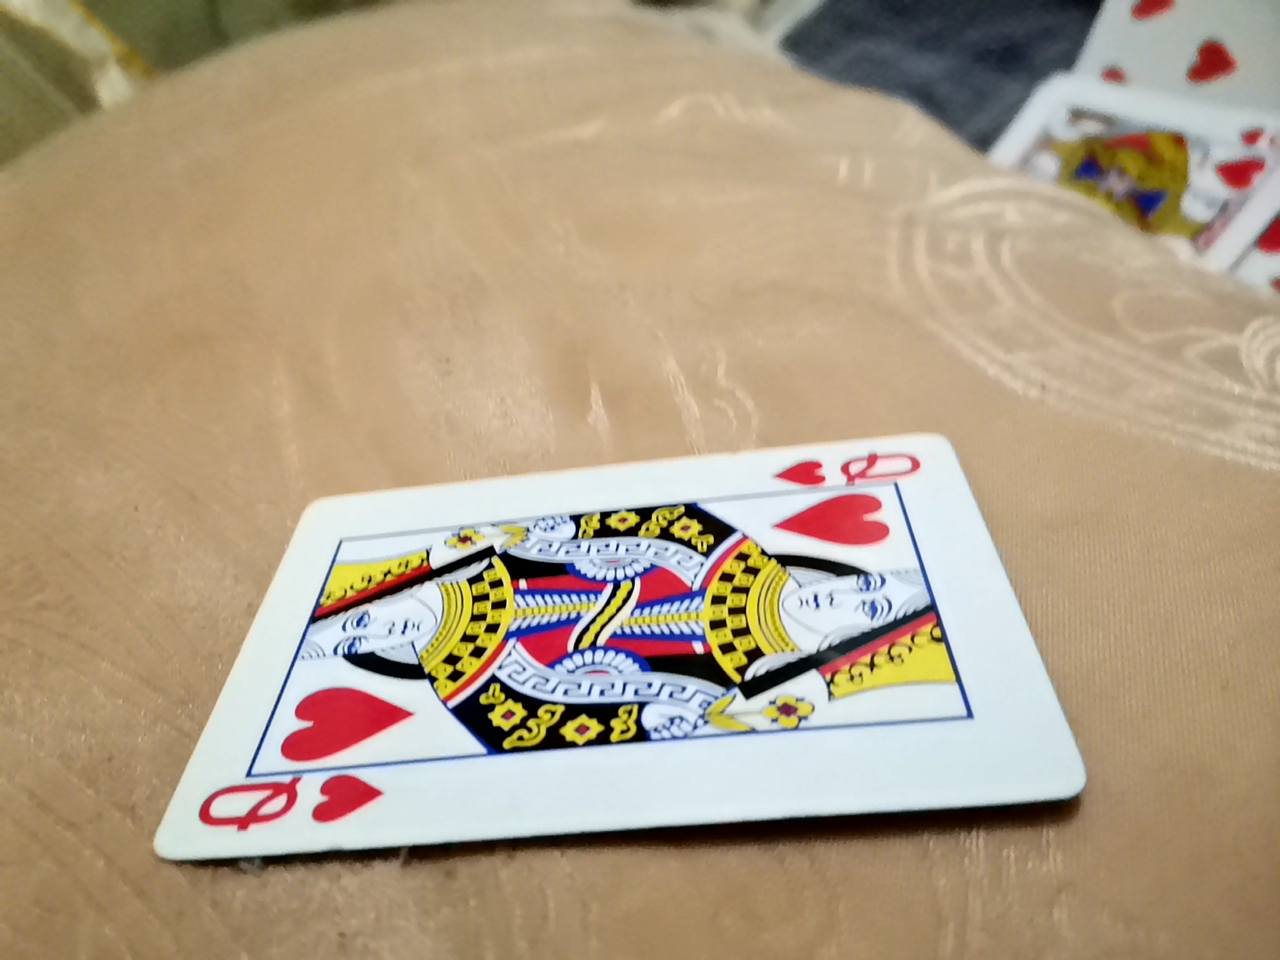hx q: (94, 520, 1111, 947)
